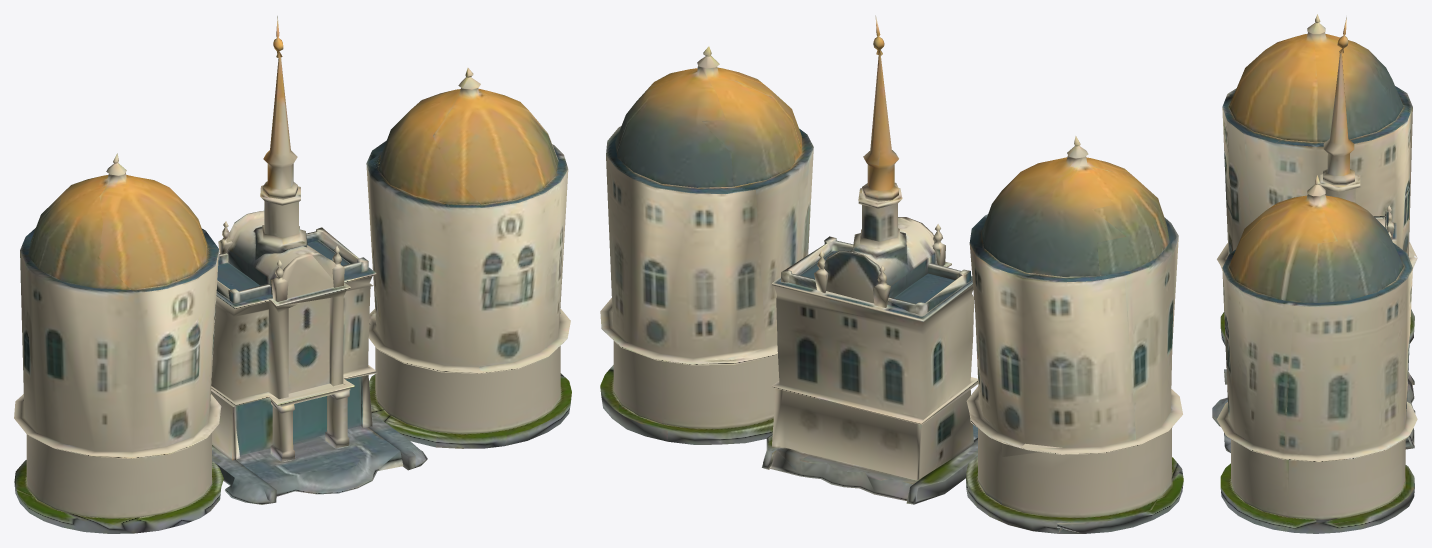
Rendered from city.glb.
The picture shows the model from 3 angles, left to right: view 1: azimuth 30°, elevation 25°; view 2: azimuth 150°, elevation 25°; view 3: azimuth 270°, elevation 25°; orthographic projection. The views are drawn at different scales.
Bounding box in the file's own units: 0.9536 × 0.7271 × 0.3384.
1 material, 1 textured.
